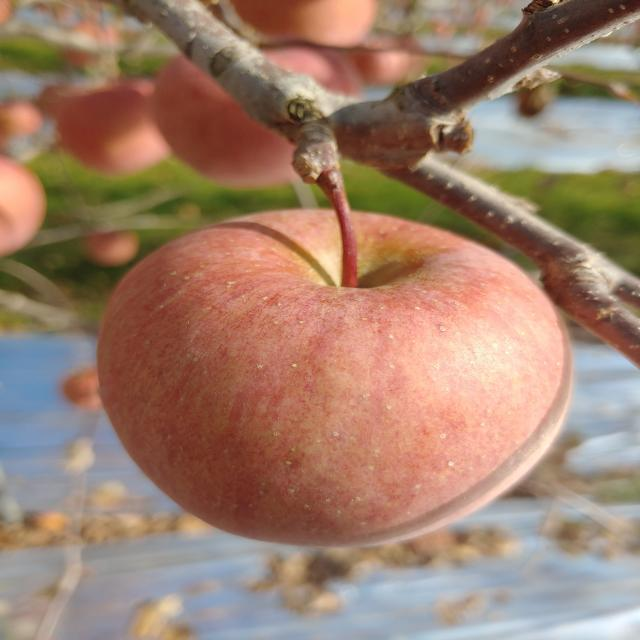fresh: (84, 203, 586, 552)
